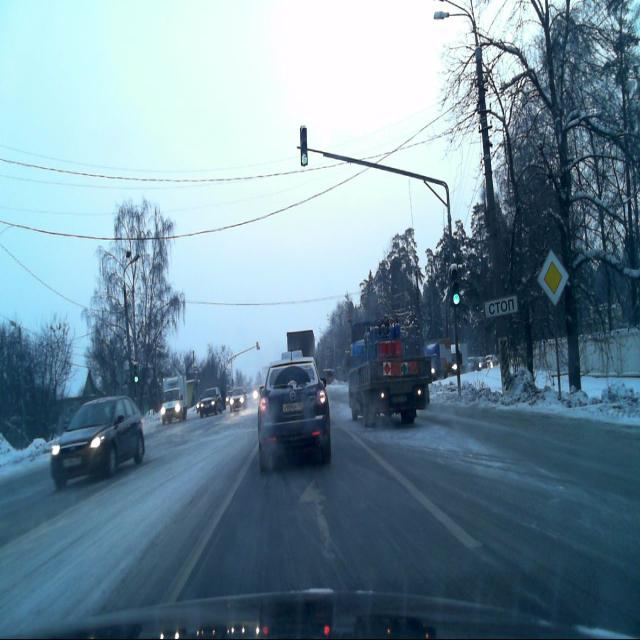road sign: (538, 251, 567, 306), (484, 297, 518, 316)
